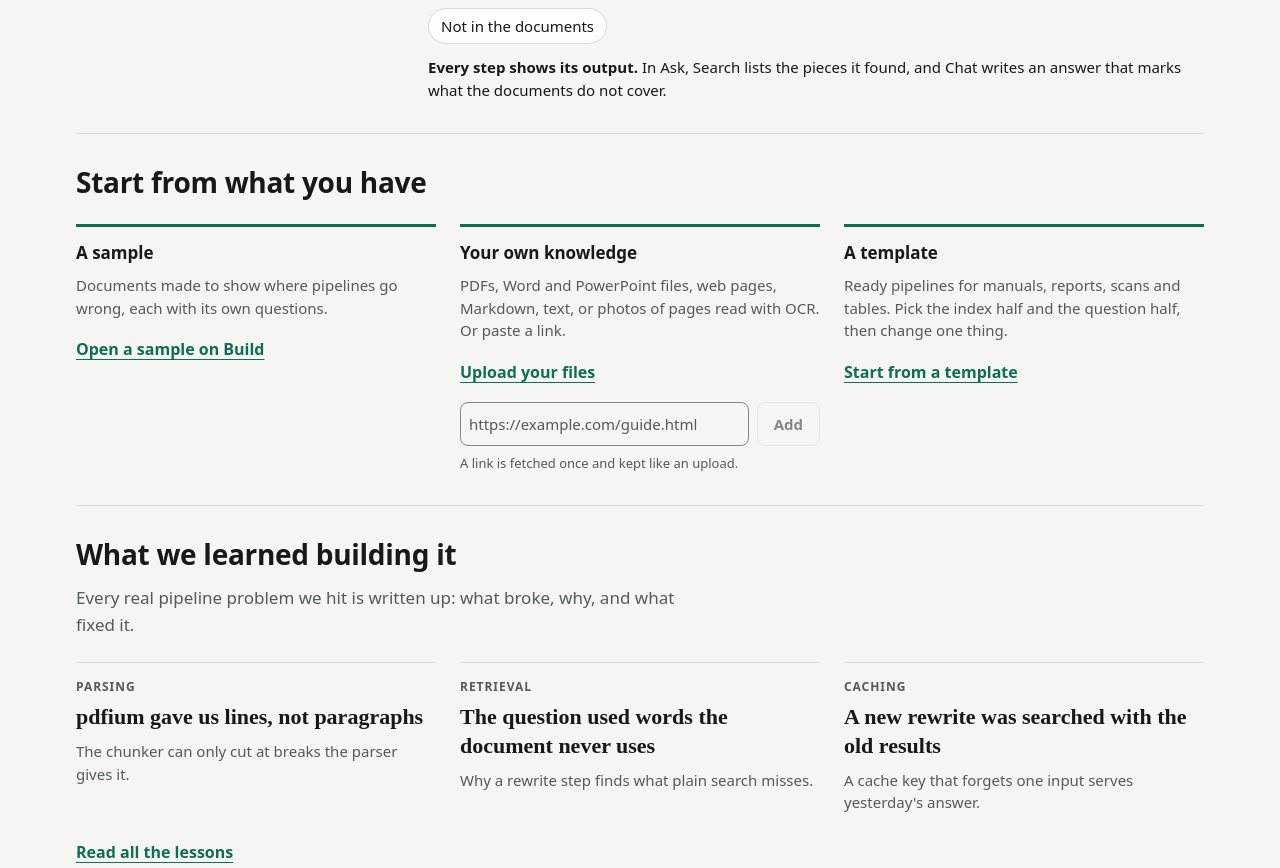
Test: Home's starts › says why a link was refused and stays on Home
The image size is (1280, 868).
(page scrolled)
Step 1. Type "https://10.0.0.1/" into the field named "Link to a web page or PDF" → (604, 424), box [460,402,749,446]
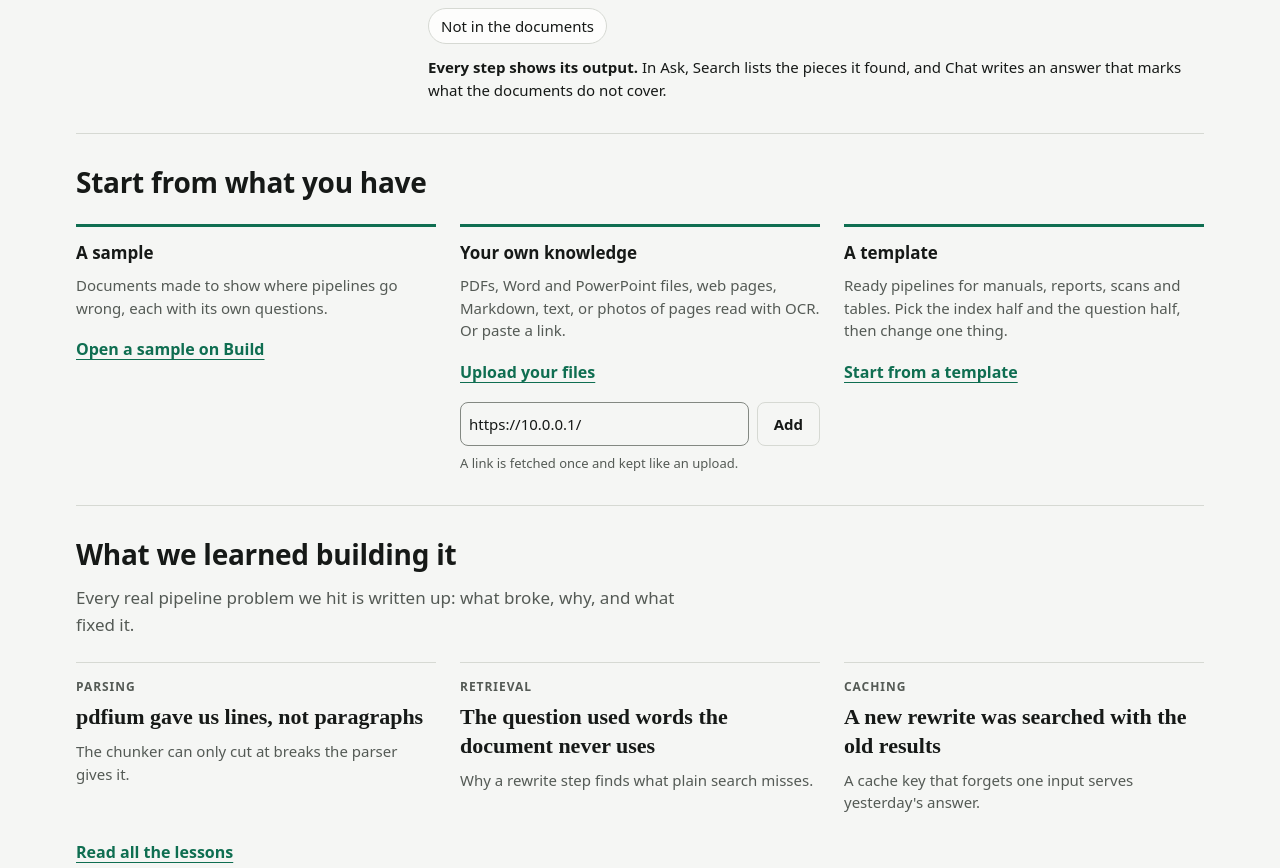
Step 2. Click the button "Add" → (788, 424), box [757,402,820,446]
(page scrolled)
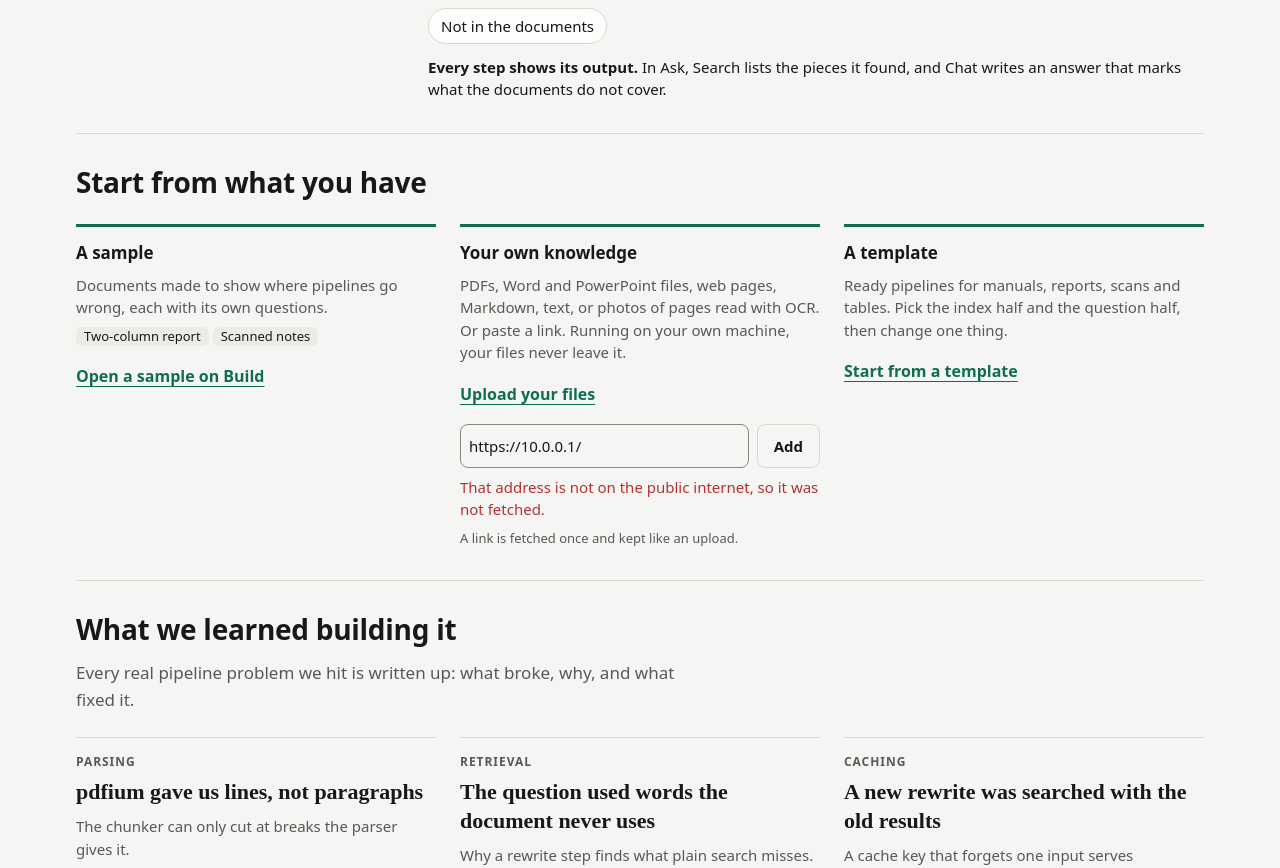
Now the message reads "That address is not on the public internet, so it was not fetched.", box [460,477,818,519]
